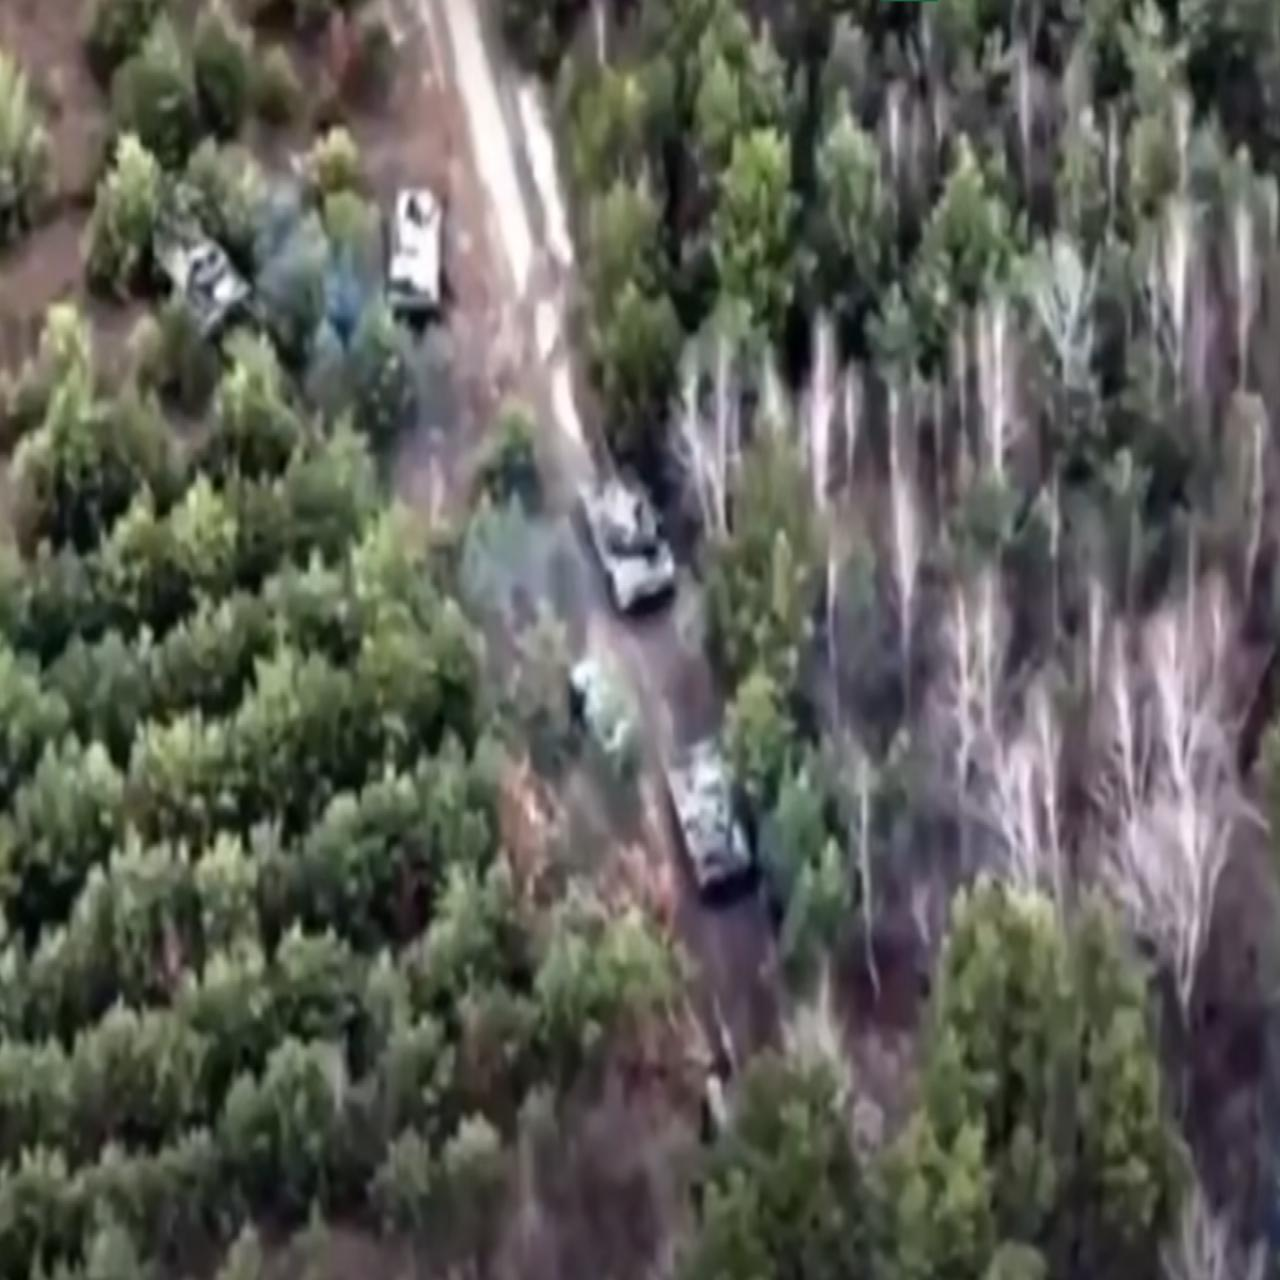MIL_Veh: (561, 454, 685, 613), (648, 731, 760, 898), (143, 203, 252, 343), (376, 173, 452, 319)
